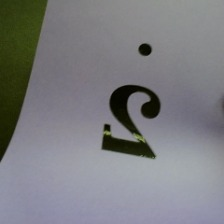violet2: (99, 39, 166, 178)
